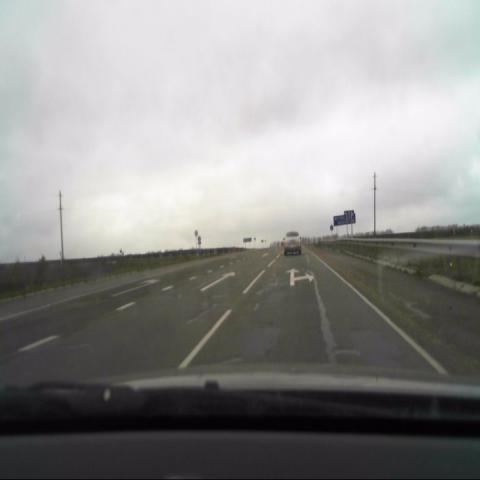5_15_1: (343, 209, 354, 219)
